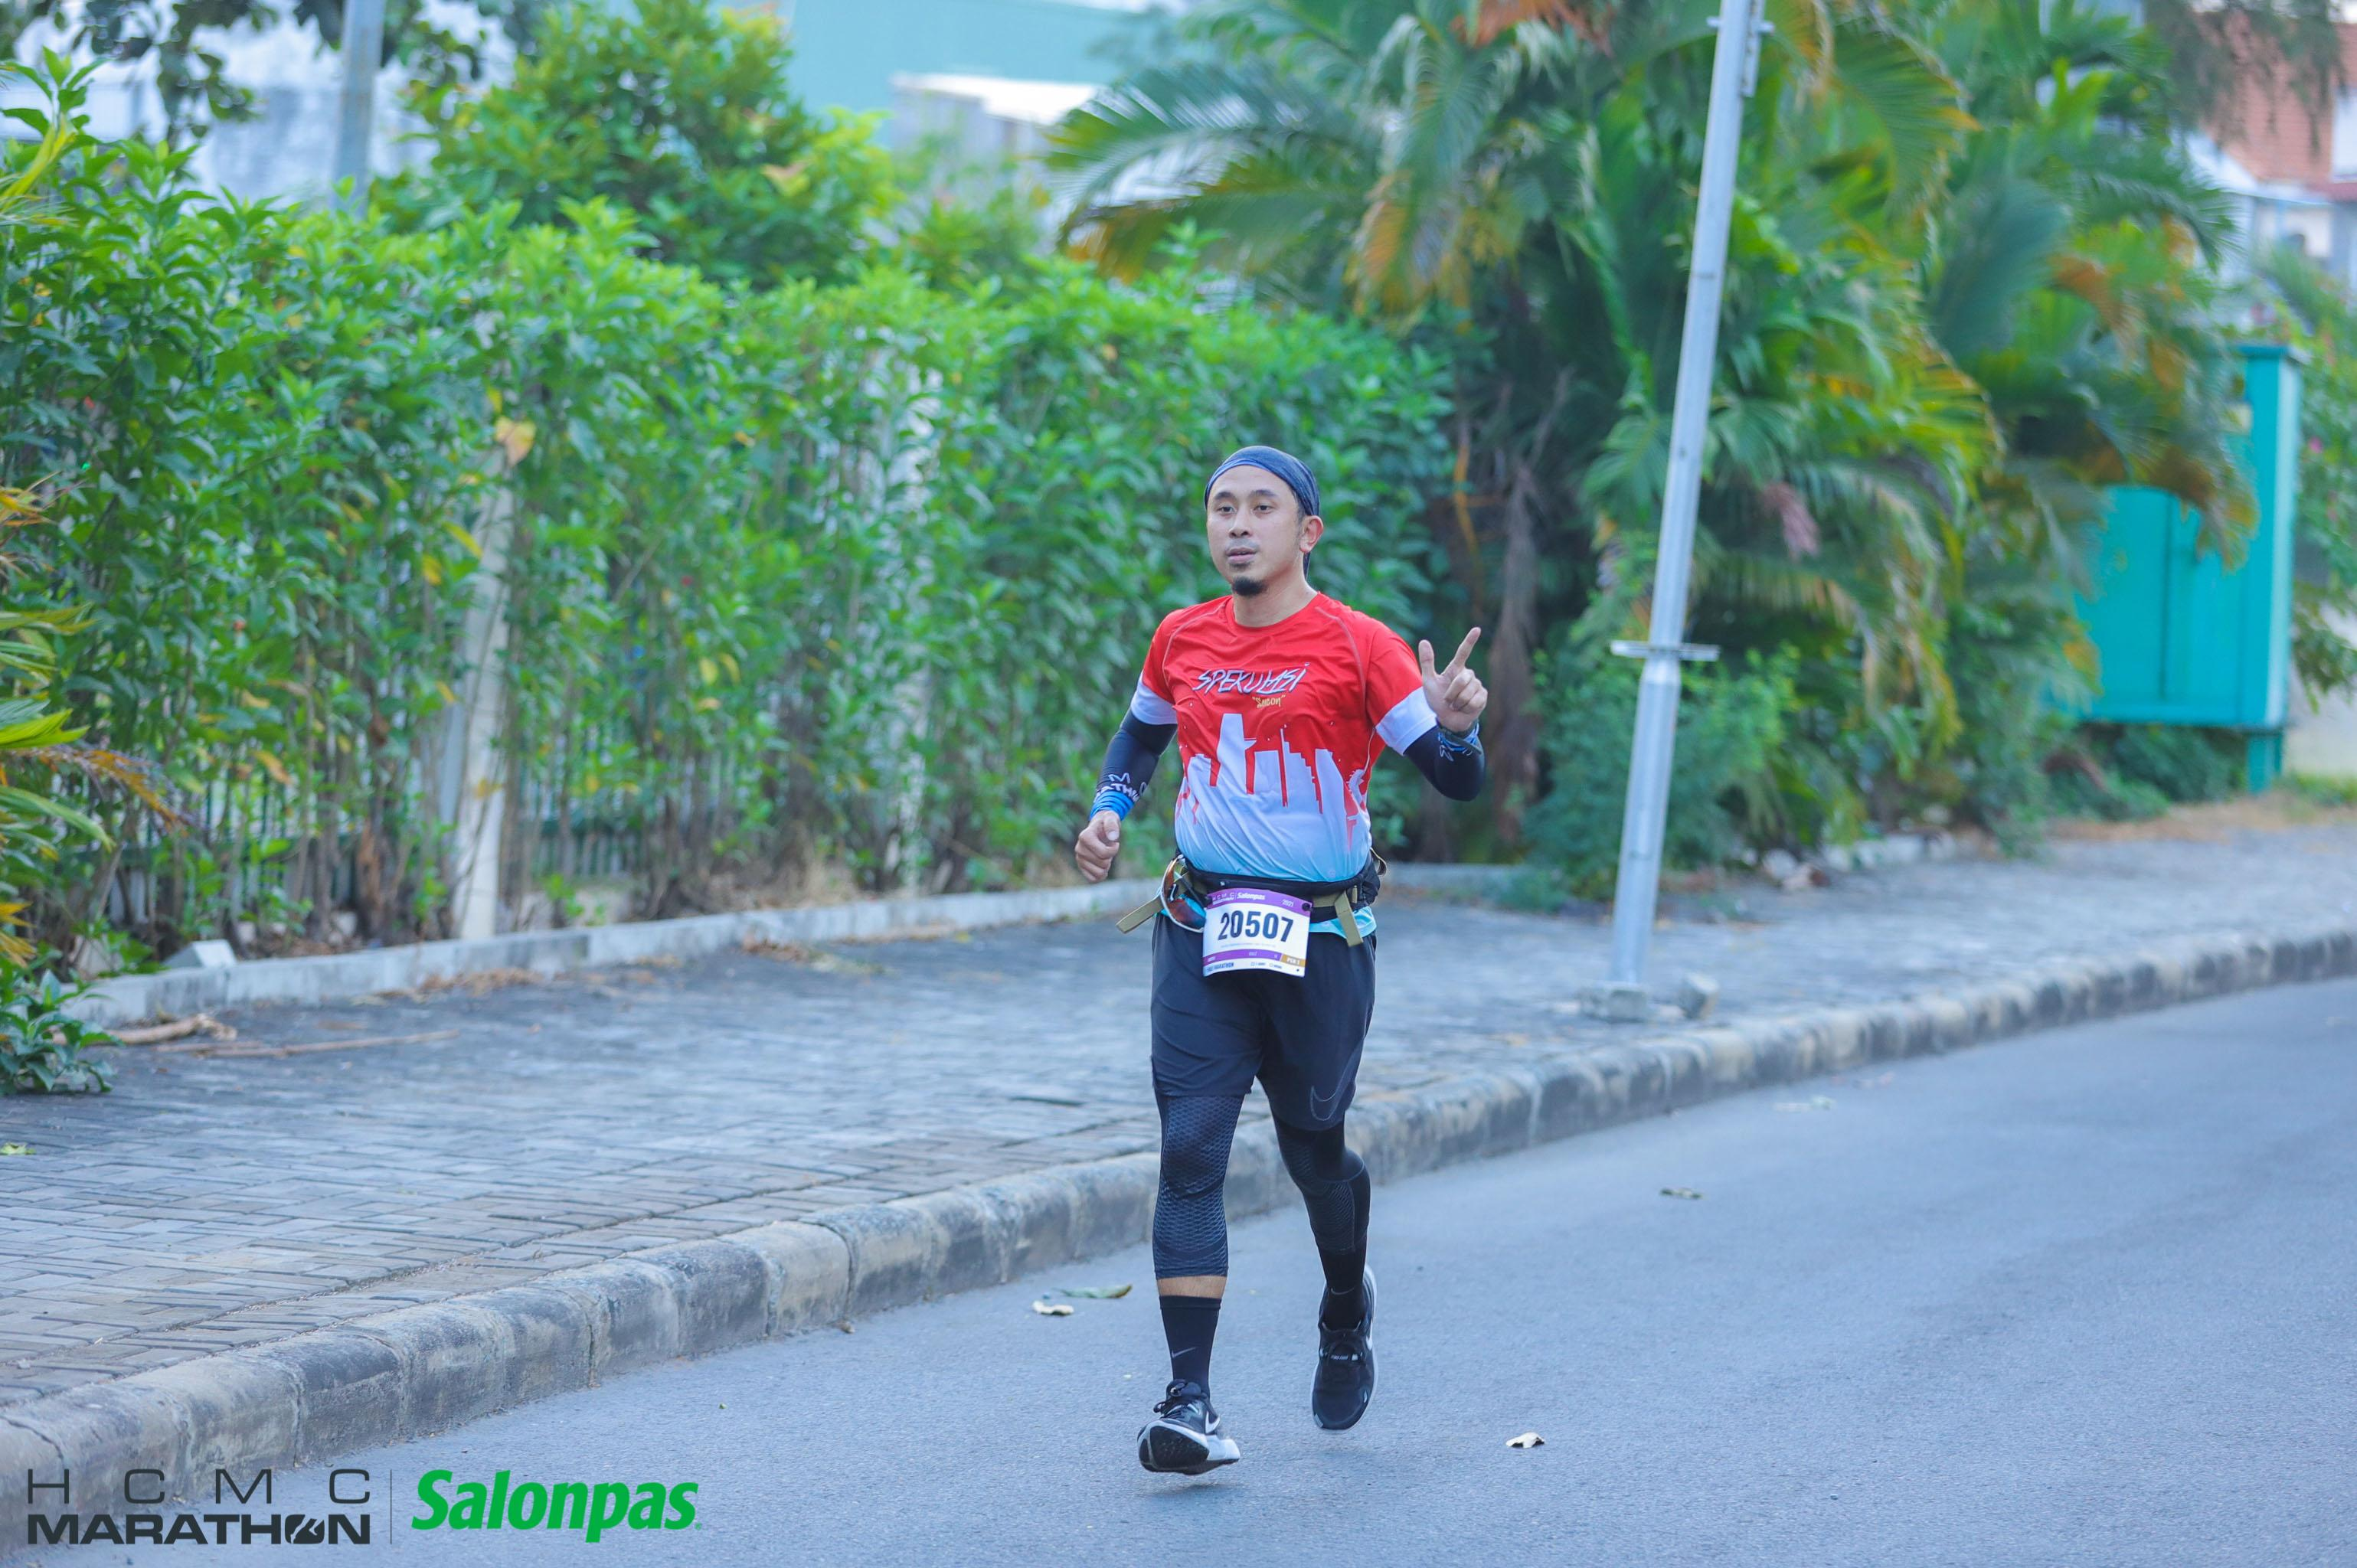bib: (1199, 889, 1309, 978)
